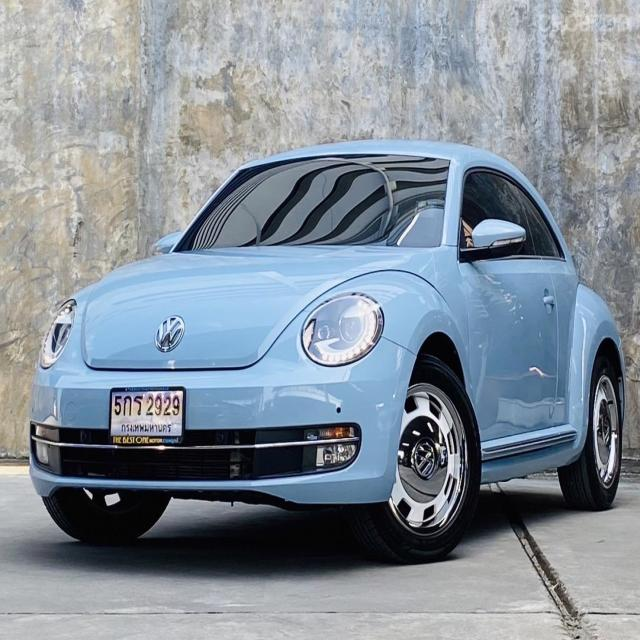license_plate: (108, 387, 185, 445)
